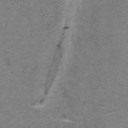finishing roll printing: (39, 16, 70, 104)
